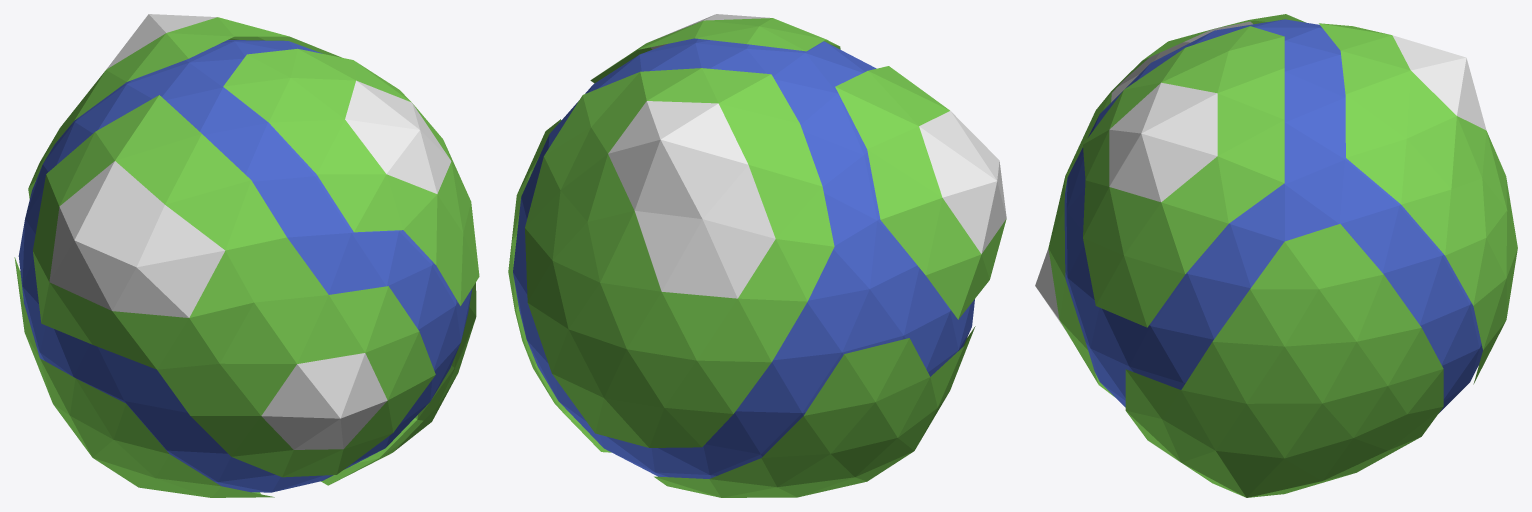
Rendered from scene_1_planet.fbx.
The picture shows the model from 3 angles, left to right: view 1: azimuth 30°, elevation 25°; view 2: azimuth 150°, elevation 25°; view 3: azimuth 270°, elevation 25°; orthographic projection. The views are drawn at different scales.
Parts seen in each view (by area): view 1: Icosphere, Icosphere.001; view 2: Icosphere, Icosphere.001; view 3: Icosphere, Icosphere.001.
Boxes of the visible parts, bbox=[...] form: Icosphere: bbox=[14, 14, 479, 497]; Icosphere.001: bbox=[18, 40, 472, 492]; Icosphere: bbox=[508, 14, 1006, 497]; Icosphere.001: bbox=[513, 38, 974, 478]; Icosphere: bbox=[1035, 14, 1517, 497]; Icosphere.001: bbox=[1064, 19, 1482, 413].
Size of the model in its own units: 400 by 390 by 403.
